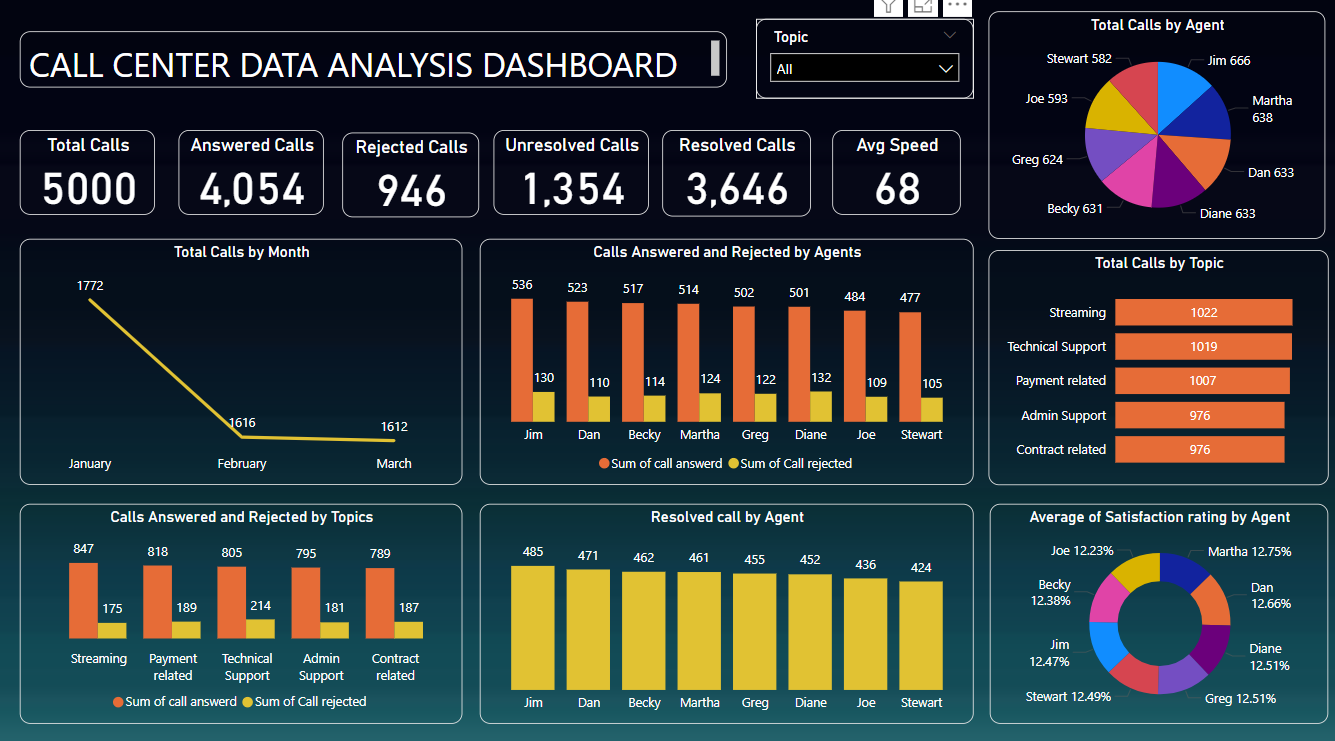

What the dashboard file says about the page in this screenshot:
{"tool":"powerbi","page":{"name":"Page 1","canvas":[1280,720],"ordinal":0},"visuals":[{"type":"card","title":"Total Calls","fields":{"Values":["Sheet1.Total Calls"]},"box":[27.4,138.6,129,81],"z":0},{"type":"card","title":"Answered Calls","fields":{"Values":["Sum(Sheet1.call answerd)"]},"box":[178.4,138.6,138.6,81],"z":1000},{"type":"card","title":"Rejected Calls","fields":{"Values":["Sum(Sheet1.Call rejected)"]},"box":[334.8,140,130.4,81],"z":2000},{"type":"card","title":"Resolved Calls","fields":{"Values":["Sum(Sheet1.Resolved call)"]},"box":[639.5,138.6,141.3,82.3],"z":3000},{"type":"card","title":"Unresolved Calls","fields":{"Values":["Sum(Sheet1.Unresolved call)"]},"box":[478.9,138.6,148.2,81],"z":4000},{"type":"barChart","fields":{"Category":["Sheet1.Topic"],"Y":["Sheet1.Total Calls"]},"box":[949.6,252.5,323.8,223.7],"z":5000},{"type":"clusteredColumnChart","title":"Calls Answered and Rejected by Agents","fields":{"Category":["Sheet1.Agent"],"Y":["Sum(Sheet1.call answerd)","Sum(Sheet1.Call rejected)"]},"box":[465.5,241.7,470.2,234.5],"z":6000},{"type":"lineChart","fields":{"Y":["Sheet1.Total Calls"],"Category":["Sheet1.Date.Variation.Date Hierarchy.Month"]},"box":[27.4,241.7,421.4,234.5],"z":7000},{"type":"clusteredColumnChart","title":"Calls Answered and Rejected by Topics","fields":{"Y":["Sum(Sheet1.call answerd)","Sum(Sheet1.Call rejected)"],"Category":["Sheet1.Topic"]},"box":[27.4,494.1,421.4,209.5],"z":8000},{"type":"donutChart","fields":{"Y":["Avg(Sheet1.Satisfaction rating)"],"Category":["Sheet1.Agent"]},"box":[950.9,494,322.5,209.9],"z":9000},{"type":"card","title":"Avg Speed","fields":{"Values":["Avg(Sheet1.Speed of answer in seconds)"]},"box":[801.4,138.6,122.1,81],"z":10000},{"type":"columnChart","title":"Resolved call by Agent","fields":{"Category":["Sheet1.Agent"],"Y":["Sum(Sheet1.Resolved call)"]},"box":[465.5,494.1,470.2,209.5],"z":11000},{"type":"pieChart","fields":{"Category":["Sheet1.Agent"],"Y":["Sheet1.Total Calls"]},"box":[949.6,24.7,321.1,216.8],"z":12000},{"type":"textbox","box":[27.4,44,673.8,53.6],"z":13000},{"type":"slicer","fields":{"Values":["Sheet1.Topic"]},"box":[728.6,32.1,207.1,76.2],"z":14000}]}

Visuals, with their boxes in screenshot pixels (x1, y1, x2, y2), scaled from the page's 1280x720 canvas onto the 1335x741 screenshot:
"Total Calls" card: (left=29, top=143, right=163, bottom=226)
"Answered Calls" card: (left=186, top=143, right=331, bottom=226)
"Rejected Calls" card: (left=349, top=144, right=485, bottom=227)
"Resolved Calls" card: (left=667, top=143, right=814, bottom=227)
"Unresolved Calls" card: (left=499, top=143, right=654, bottom=226)
barChart - Sheet1.Topic x Sheet1.Total Calls: (left=990, top=260, right=1328, bottom=490)
"Calls Answered and Rejected by Agents" clusteredColumnChart: (left=486, top=249, right=976, bottom=490)
lineChart - Sheet1.Total Calls x Sheet1.Date.Variation.Date Hierarchy.Month: (left=29, top=249, right=468, bottom=490)
"Calls Answered and Rejected by Topics" clusteredColumnChart: (left=29, top=509, right=468, bottom=724)
donutChart - Avg(Sheet1.Satisfaction rating) x Sheet1.Agent: (left=992, top=508, right=1328, bottom=724)
"Avg Speed" card: (left=836, top=143, right=963, bottom=226)
"Resolved call by Agent" columnChart: (left=486, top=509, right=976, bottom=724)
pieChart - Sheet1.Agent x Sheet1.Total Calls: (left=990, top=25, right=1325, bottom=249)
textbox: (left=29, top=45, right=731, bottom=100)
slicer - Sheet1.Topic: (left=760, top=33, right=976, bottom=111)
